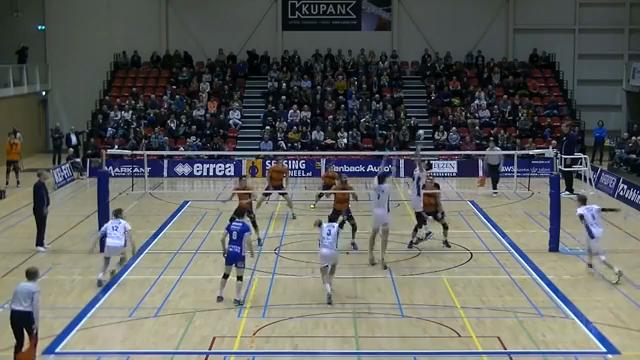alzata: (405, 133, 435, 248)
